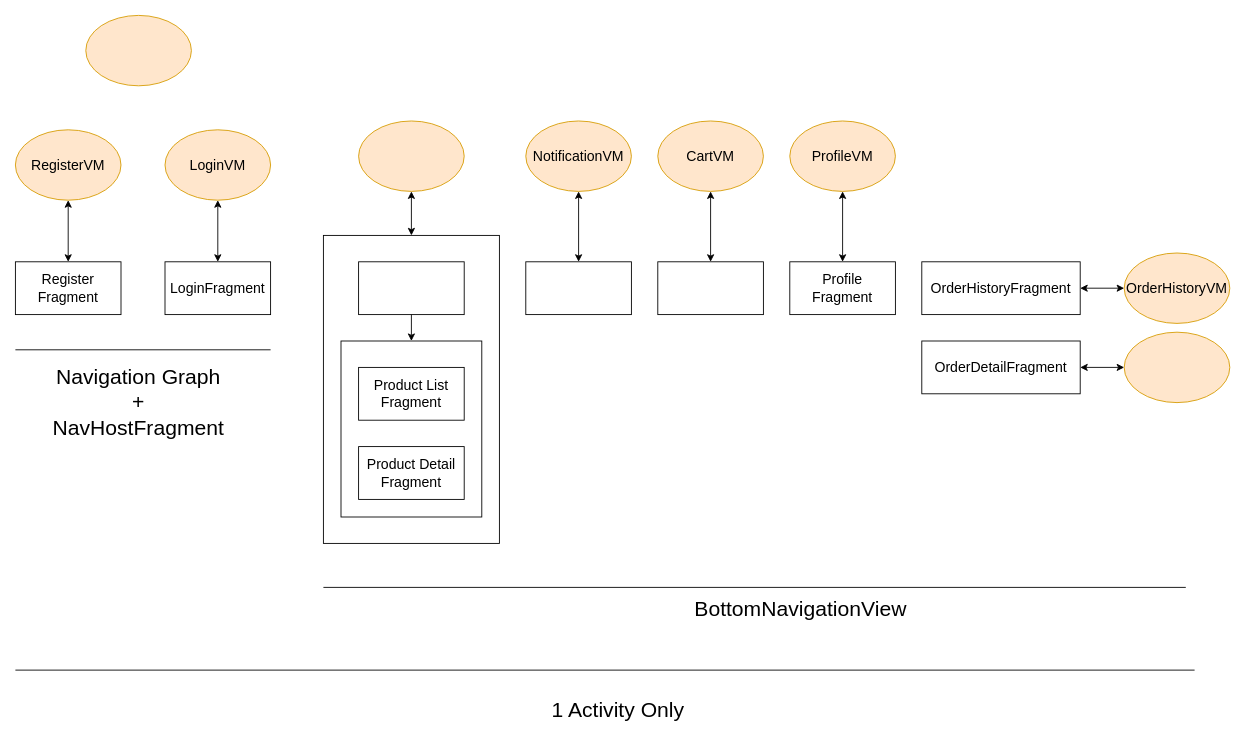
This 1245x744 diagram has some shape labels left out. Here are the shapes that lost their labels. From the top down, the centre of each, then its label:
pixel 138 50: UserSessionVM
pixel 411 155: HomeVM
pixel 411 288: Home Fragment
pixel 578 288: Notification Fragment
pixel 710 288: Cart Fragment
pixel 1176 367: OrderDetailVM
